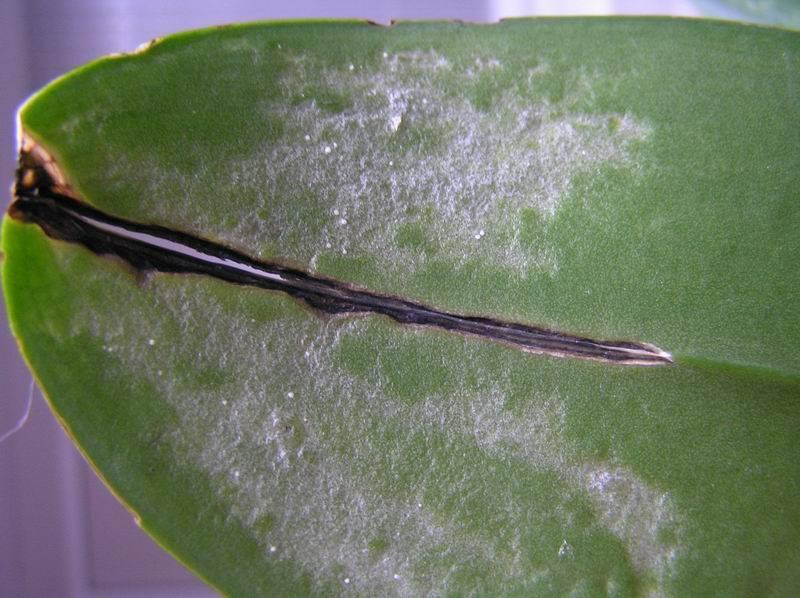pseudococcidae: (34, 238, 722, 597), (54, 25, 732, 349)
